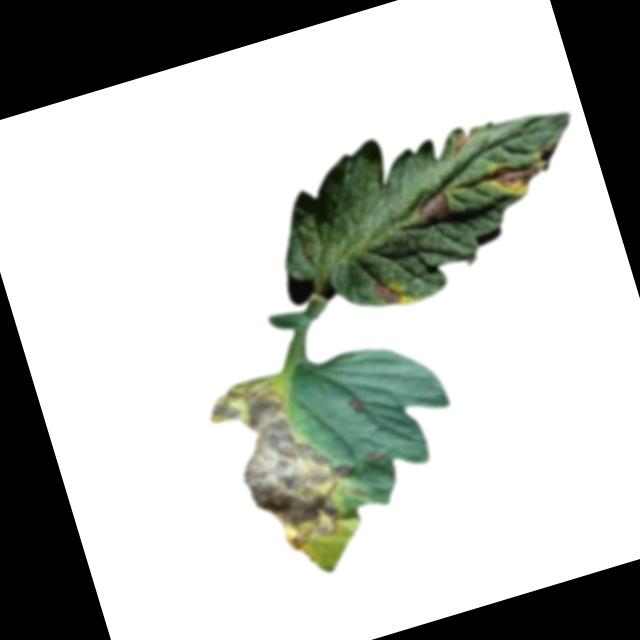Early_blight: (204, 358, 374, 559), (484, 151, 548, 201), (408, 189, 451, 227), (370, 273, 409, 309), (447, 127, 473, 156), (362, 445, 385, 467), (345, 392, 367, 415)
